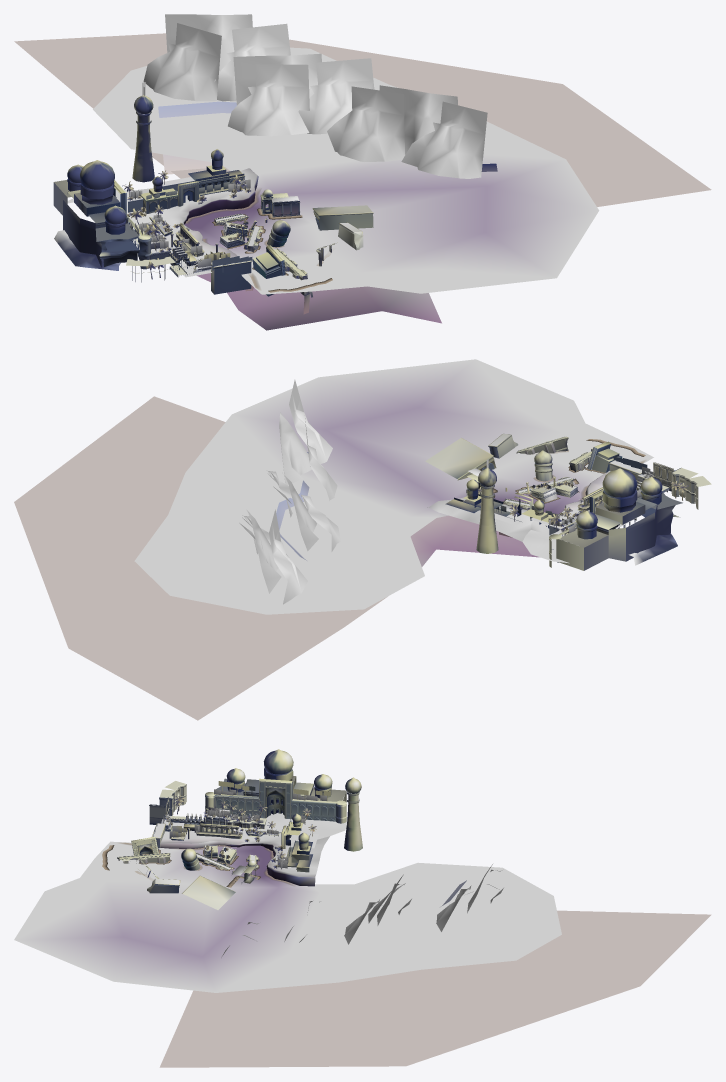
The model's file is 02Islands.gltf.
The picture shows the model from 3 angles, top to bottom: view 1: azimuth 30°, elevation 25°; view 2: azimuth 150°, elevation 25°; view 3: azimuth 270°, elevation 25°; orthographic projection. The views are drawn at different scales.
Visible parts, largest first — view 1: stg013_w12_Mesh_0000, stg013_o12_Mesh_0062.001, stg013_p19_Mesh_0001.001, stg013_o12_Mesh_0006.001, stg013_o12_Mesh_0050.001, stg013_o19_Mesh_0010.001, stg013_o19_Mesh_0003.001, stg013_p13_Mesh_0000.001, stg013_o32_Mesh_0000.002, stg013_o13_Mesh_0057.001, stg013_o12_Mesh_0025.001, stg013_o13_Mesh_0034.002 (+13 smaller); view 2: stg013_w12_Mesh_0000, stg013_o12_Mesh_0062.001, stg013_p19_Mesh_0001.001, stg013_o12_Mesh_0006.001, stg013_o12_Mesh_0050.001, stg013_o13_Mesh_0057.001, stg013_o19_Mesh_0010.001, stg013_o19_Mesh_0003.001, stg013_o19_Mesh_0000.001, stg013_o13_Mesh_0034.002, stg013_o12_Mesh_0018.001, stg013_o12_Mesh_0031.001 (+5 smaller); view 3: stg013_w12_Mesh_0000, stg013_o12_Mesh_0062.001, stg013_o12_Mesh_0006.001, stg013_o13_Mesh_0034.002, stg013_o13_Mesh_0057.001, stg013_o19_Mesh_0010.001, stg013_o19_Mesh_0003.001, stg013_p19_Mesh_0001.001, stg013_o12_Mesh_0031.001, stg013_p13_Mesh_0000.001, stg013_o12_Mesh_0041.001, stg013_o19_Mesh_0004.001 (+8 smaller).
Part boxes in pixels (x1,y1,x2,y2): stg013_w12_Mesh_0000: [93, 47, 599, 294]; stg013_o12_Mesh_0062.001: [14, 33, 711, 330]; stg013_p19_Mesh_0001.001: [143, 14, 487, 178]; stg013_o12_Mesh_0006.001: [54, 159, 373, 296]; stg013_o12_Mesh_0050.001: [53, 182, 363, 294]; stg013_o19_Mesh_0010.001: [54, 190, 234, 274]; stg013_o19_Mesh_0003.001: [67, 95, 188, 274]; stg013_p13_Mesh_0000.001: [130, 178, 252, 272]; stg013_o32_Mesh_0000.002: [158, 101, 497, 174]; stg013_o13_Mesh_0057.001: [126, 170, 372, 272]; stg013_o12_Mesh_0025.001: [126, 176, 373, 295]; stg013_o13_Mesh_0034.002: [63, 151, 318, 278]; stg013_w12_Mesh_0000: [134, 359, 653, 614]; stg013_o12_Mesh_0062.001: [14, 396, 539, 720]; stg013_p19_Mesh_0001.001: [239, 379, 340, 604]; stg013_o12_Mesh_0006.001: [448, 434, 711, 562]; stg013_o12_Mesh_0050.001: [489, 434, 675, 570]; stg013_o13_Mesh_0057.001: [425, 433, 647, 529]; stg013_o19_Mesh_0010.001: [522, 475, 677, 565]; stg013_o19_Mesh_0003.001: [478, 467, 697, 528]; stg013_o19_Mesh_0000.001: [428, 497, 533, 541]; stg013_o13_Mesh_0034.002: [461, 437, 698, 554]; stg013_o12_Mesh_0018.001: [467, 435, 671, 531]; stg013_o12_Mesh_0031.001: [467, 463, 671, 531]; stg013_w12_Mesh_0000: [14, 841, 561, 992]; stg013_o12_Mesh_0062.001: [159, 910, 711, 1067]; stg013_o12_Mesh_0006.001: [118, 767, 346, 893]; stg013_o13_Mesh_0034.002: [118, 781, 360, 883]; stg013_o13_Mesh_0057.001: [152, 809, 318, 909]; stg013_o19_Mesh_0010.001: [161, 812, 347, 842]; stg013_o19_Mesh_0003.001: [159, 749, 361, 840]; stg013_p19_Mesh_0001.001: [221, 864, 503, 957]; stg013_o12_Mesh_0031.001: [133, 769, 359, 868]; stg013_p13_Mesh_0000.001: [153, 789, 326, 869]; stg013_o12_Mesh_0041.001: [124, 782, 359, 868]; stg013_o19_Mesh_0004.001: [160, 841, 315, 886].
Size of the model in its own units: 931 by 224 by 1138.
